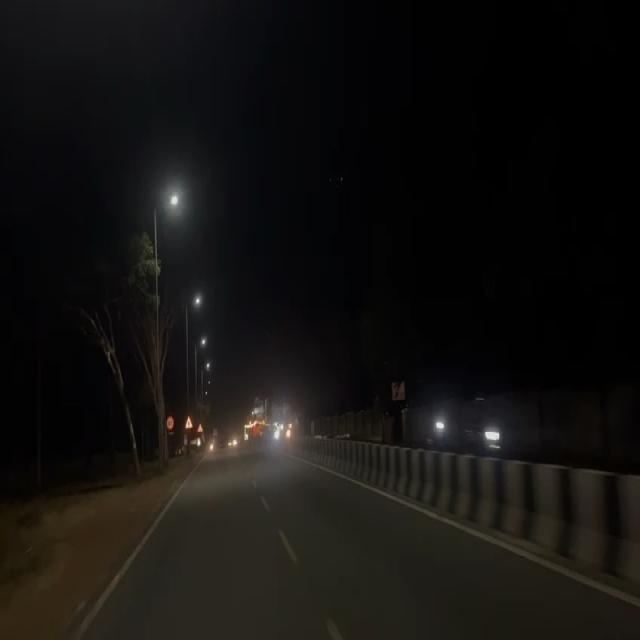bien_nguy_hiem: (164, 413, 176, 431), (184, 416, 193, 430)
